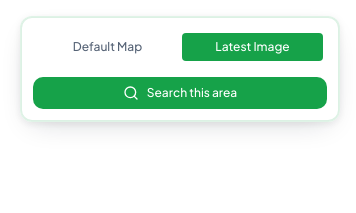
Test case: LatestImageryControl › snapshots the viewport only on explicit search and selects the newest usable scene
Click the button "Search this area". click: x=180, y=93
box: [33,77,327,109]
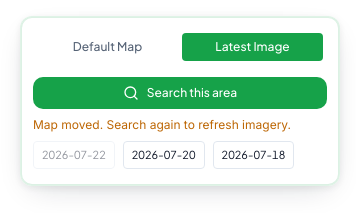
expect the button "2026-07-22" is disabled: met, box [33,141,115,169]
expect the text "Map moved. Search again to refresh imagery." is shown: met, box [33,117,327,133]
